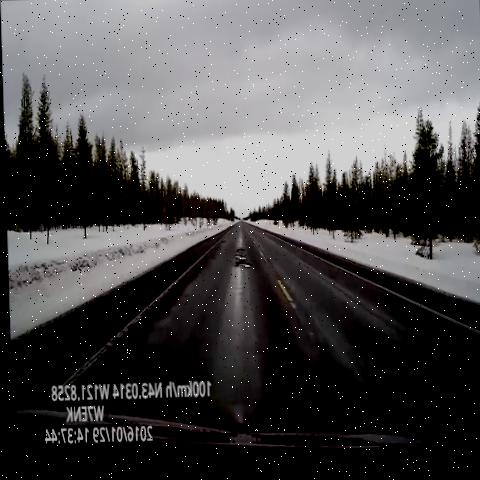pothole: (228, 242, 253, 277)
